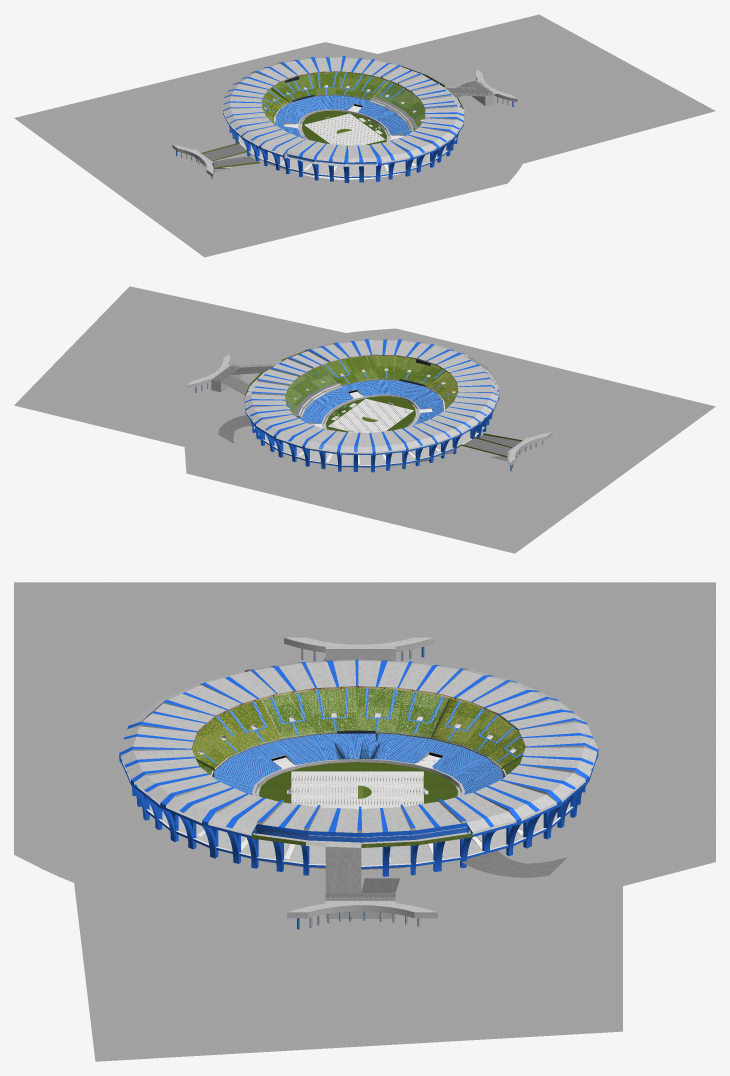
Rendered from Maracana RJ.dae.
3 renders of one model, top to bottom at view 1: azimuth 30°, elevation 25°; view 2: azimuth 150°, elevation 25°; view 3: azimuth 270°, elevation 25°, orthographic. The views are drawn at different scales.
Parts seen in each view (by area): view 1: Model; view 2: Model; view 3: Model.
Boxes of the visible parts, left/top/right/bottom form: Model: left=14, top=14, right=715, bottom=257; Model: left=14, top=286, right=715, bottom=553; Model: left=14, top=582, right=715, bottom=1061.
Size of the model in its own units: 3755 by 2323 by 203.
52 materials, 40 textured.
